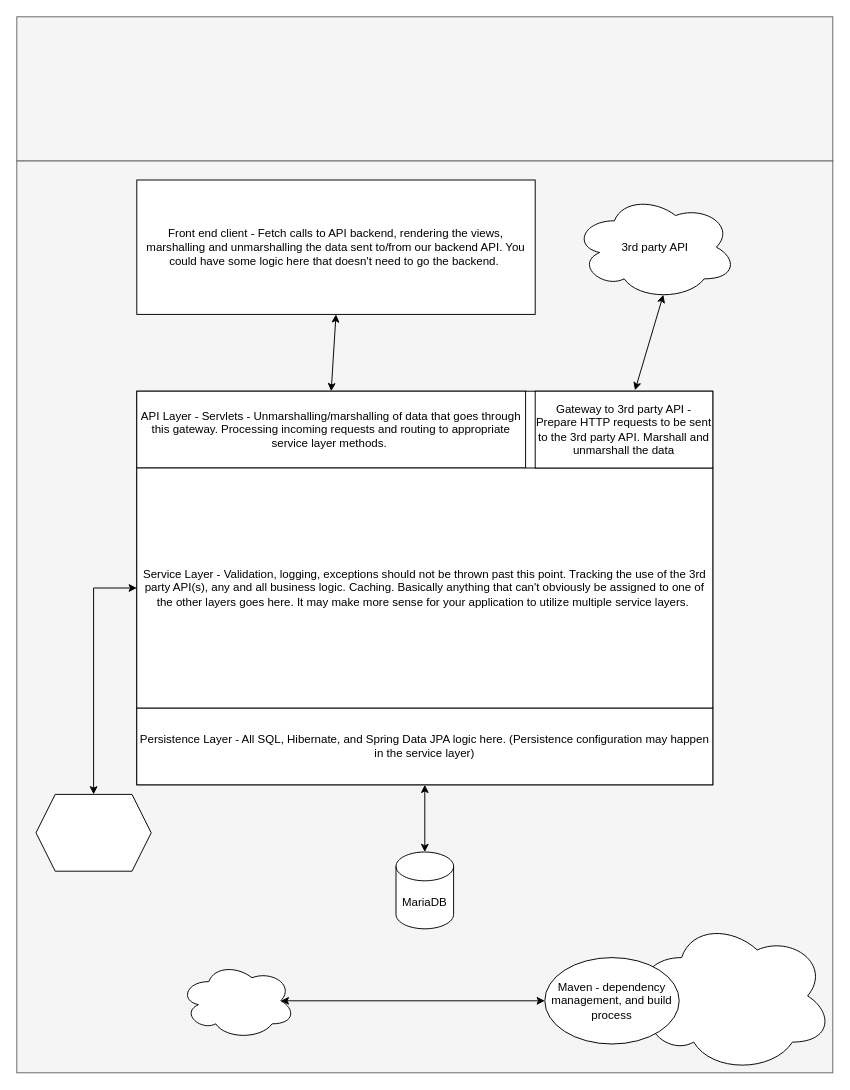
Some shapes in this 850 by 1090 pixel diagram are drawn without their labels. The shapes that lost their labels are listed below. From the top down, each one's box as (x1, y1, x2, y2) in pixels, then its label:
(16, 16, 833, 161): Project 2 Model
(35, 793, 151, 871): Unit Testing
(179, 961, 295, 1039): GitHub
(630, 918, 833, 1073): AWS CI/CD
